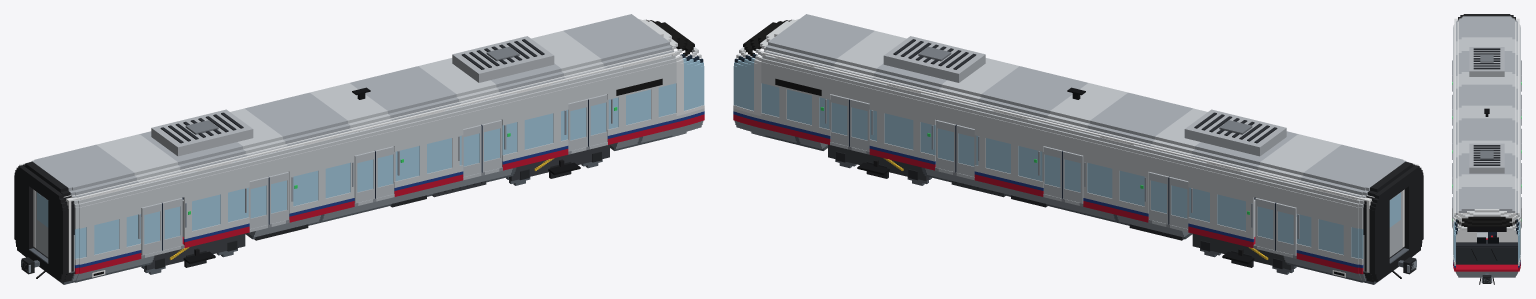
File: mtr_mtrain_front.obj
3 views of the same model, side by side, from view 1: azimuth 30°, elevation 25°; view 2: azimuth 150°, elevation 25°; view 3: azimuth 270°, elevation 25° (orthographic). The views are drawn at different scales.
Visible parts, largest first — view 1: SHELL, SHELL_roof, SHELL_diaphragm, SHELL_ceiling, BOGEY_FRONT, BOGEY_REAR, EXTERNAL_DOOR_3_CG_DR1_TOGGLE_TL_-0.64_X, EXTERNAL_DOOR_15_CG_DR3_TOGGLE_TL_-0.64_X, EXTERNAL_DOOR_9_CG_DR2_TOGGLE_TL_-0.64_X, EXTERNAL_DOOR_21_CG_DR4_TOGGLE_TL_-0.64_X, EXTERNAL_DOOR_10_CG_DR2_TOGGLE_TL_0.64_X, EXTERNAL_DOOR_22_CG_DR4_TOGGLE_TL_0.64_X (+8 smaller); view 2: SHELL, SHELL_roof, SHELL_diaphragm, SHELL_ceiling, BOGEY_FRONT, BOGEY_REAR, EXTERNAL_DOOR_6_CG_DL1_TOGGLE_TL_-0.64_X, EXTERNAL_DOOR_18_CG_DL3_TOGGLE_TL_-0.64_X, EXTERNAL_DOOR_12_CG_DL2_TOGGLE_TL_-0.64_X, EXTERNAL_DOOR_24_CG_DL4_TOGGLE_TL_-0.64_X, EXTERNAL_DOOR_13_CG_DL2_TOGGLE_TL_0.64_X, EXTERNAL_DOOR_25_CG_DL4_TOGGLE_TL_0.64_X (+8 smaller); view 3: SHELL, SHELL_roof, SHELL_ceiling, SHELL_desk, SHELL_cabwall, SHELL_handle, SHELL_destbox, FRAME.
Part boxes in pixels (x1,y1,x2,y2): SHELL: (22,14,704,284); SHELL_roof: (151,36,554,156); SHELL_diaphragm: (14,165,67,281); SHELL_ceiling: (21,51,672,201); BOGEY_FRONT: (509,144,609,181); BOGEY_REAR: (144,233,245,270); EXTERNAL_DOOR_3_CG_DR1_TOGGLE_TL_-0.64_X: (141,202,162,255); EXTERNAL_DOOR_15_CG_DR3_TOGGLE_TL_-0.64_X: (354,151,375,203); EXTERNAL_DOOR_9_CG_DR2_TOGGLE_TL_-0.64_X: (248,177,269,228); EXTERNAL_DOOR_21_CG_DR4_TOGGLE_TL_-0.64_X: (461,124,482,176); EXTERNAL_DOOR_10_CG_DR2_TOGGLE_TL_0.64_X: (268,172,289,224); EXTERNAL_DOOR_22_CG_DR4_TOGGLE_TL_0.64_X: (482,120,502,172); SHELL: (733,14,1415,284); SHELL_roof: (883,36,1286,156); SHELL_diaphragm: (1370,165,1423,281); SHELL_ceiling: (765,51,1415,201); BOGEY_FRONT: (828,144,928,181); BOGEY_REAR: (1192,233,1293,270); EXTERNAL_DOOR_6_CG_DL1_TOGGLE_TL_-0.64_X: (1275,202,1296,255); EXTERNAL_DOOR_18_CG_DL3_TOGGLE_TL_-0.64_X: (1062,151,1083,203); EXTERNAL_DOOR_12_CG_DL2_TOGGLE_TL_-0.64_X: (1168,176,1189,228); EXTERNAL_DOOR_24_CG_DL4_TOGGLE_TL_-0.64_X: (955,124,976,176); EXTERNAL_DOOR_13_CG_DL2_TOGGLE_TL_0.64_X: (1148,172,1168,224); EXTERNAL_DOOR_25_CG_DL4_TOGGLE_TL_0.64_X: (935,120,955,172); SHELL: (1453,14,1520,277); SHELL_roof: (1469,47,1504,173); SHELL_ceiling: (1454,19,1519,212); SHELL_desk: (1456,237,1517,264); SHELL_cabwall: (1454,212,1519,242); SHELL_handle: (1452,60,1521,228); SHELL_destbox: (1467,226,1506,231); FRAME: (1479,273,1494,284).
Size of the model in its own units: 23.24 by 4.06 by 3.14.
Materials: 1 (1 with a texture image).
